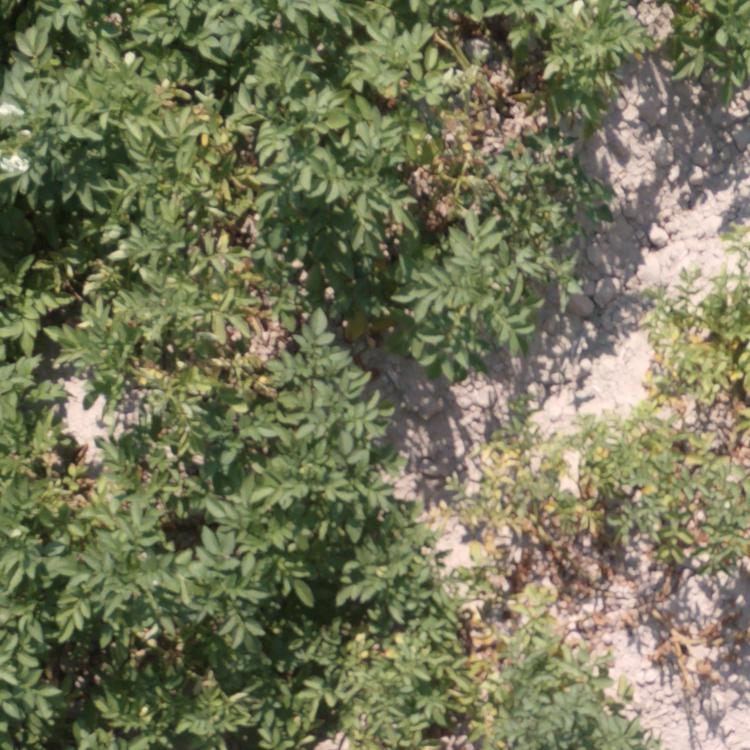healthy: (1, 512, 206, 748), (226, 387, 424, 560), (1, 1, 257, 123), (388, 192, 516, 363), (272, 2, 405, 160), (214, 567, 332, 742), (1, 124, 162, 248), (89, 372, 211, 495), (1, 263, 165, 354), (422, 2, 640, 65), (271, 170, 377, 296), (1, 364, 83, 504), (529, 632, 616, 745), (675, 1, 743, 81), (283, 315, 353, 386)
stressed: (351, 569, 513, 738), (593, 421, 749, 569), (631, 263, 750, 412), (198, 138, 264, 371), (458, 433, 572, 558), (418, 85, 558, 175), (636, 589, 719, 683)
